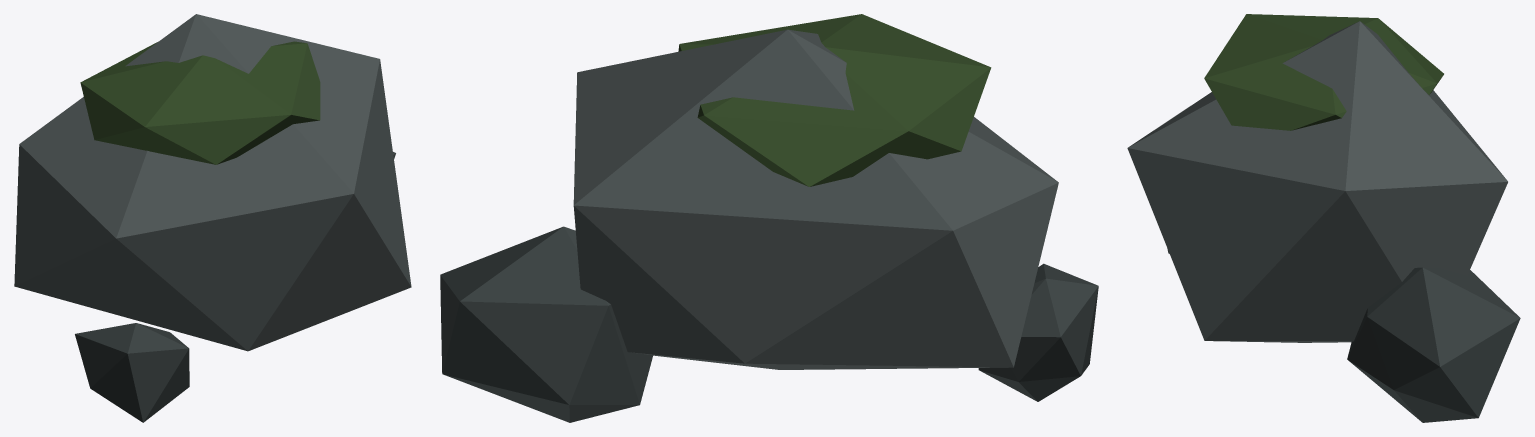
The model's file is rock_boulder.glb.
The picture shows the model from 3 angles, left to right: view 1: azimuth 30°, elevation 25°; view 2: azimuth 150°, elevation 25°; view 3: azimuth 270°, elevation 25°; orthographic projection. The views are drawn at different scales.
Parts seen in each view (by area): view 1: rock_boulder; view 2: rock_boulder; view 3: rock_boulder.
Boxes of the visible parts, x1=… form: rock_boulder: x1=14, y1=14, x2=411, y2=422; rock_boulder: x1=440, y1=14, x2=1098, y2=422; rock_boulder: x1=1127, y1=14, x2=1520, y2=422.
Size of the model in its own units: 0.9551 by 0.7119 by 0.7663.
